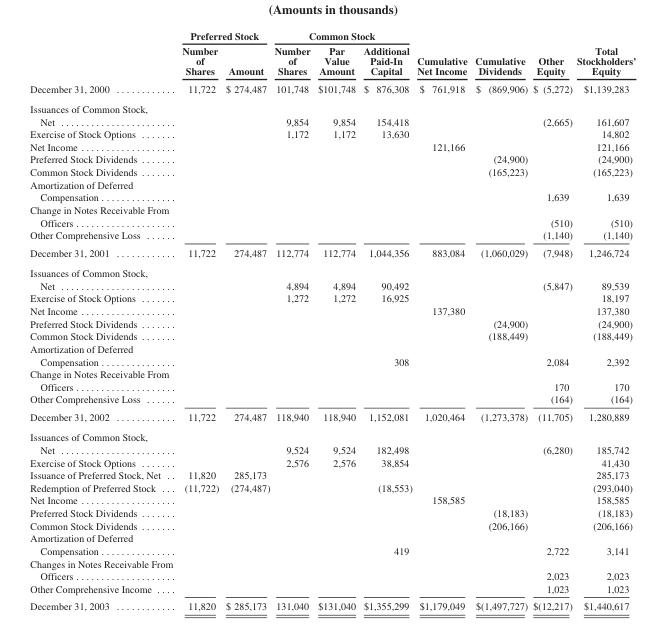table: (29, 29, 635, 611)
table column: (29, 29, 176, 611), (573, 29, 635, 611), (470, 29, 529, 611), (413, 29, 470, 611), (358, 29, 413, 611), (221, 29, 271, 611), (176, 29, 221, 611), (313, 29, 358, 611), (529, 29, 573, 611), (271, 29, 313, 611)
table column header: (29, 29, 635, 79)
table row: (29, 42, 635, 79), (29, 98, 635, 127), (29, 262, 635, 291), (29, 426, 635, 455), (29, 177, 635, 203), (29, 556, 635, 582), (29, 203, 635, 228), (29, 342, 635, 367), (29, 367, 635, 392), (29, 531, 635, 556), (29, 79, 635, 98), (29, 243, 635, 262), (29, 407, 635, 426), (29, 228, 635, 243), (29, 392, 635, 407), (29, 582, 635, 597), (29, 597, 635, 611), (29, 29, 635, 42), (29, 127, 635, 140), (29, 152, 635, 165), (29, 291, 635, 304), (29, 316, 635, 329), (29, 329, 635, 342), (29, 455, 635, 468), (29, 468, 635, 481), (29, 493, 635, 506), (29, 518, 635, 531), (29, 140, 635, 152), (29, 165, 635, 177), (29, 304, 635, 316), (29, 481, 635, 493), (29, 506, 635, 518)
table spanning cell: (573, 29, 635, 79), (470, 29, 529, 79), (413, 29, 470, 79), (529, 29, 573, 79), (271, 29, 413, 42), (176, 29, 271, 42)
